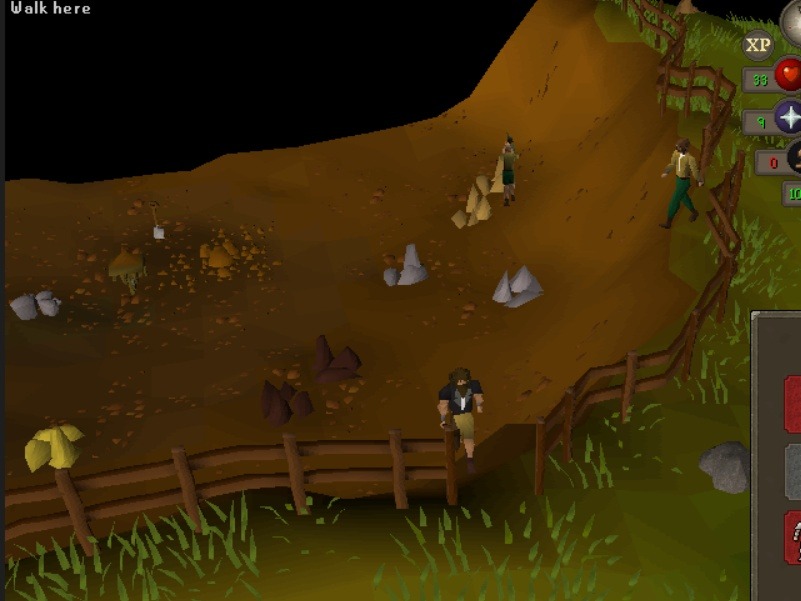clay: (449, 183, 497, 230), (472, 148, 520, 195)
gold: (19, 409, 90, 482)
iron: (255, 371, 324, 429), (309, 332, 365, 386)
tin: (380, 239, 432, 292), (493, 261, 545, 314)
